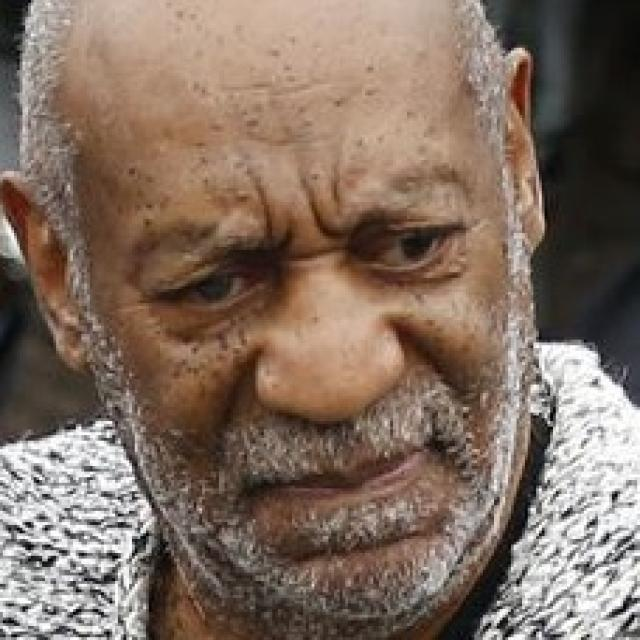Depress: (58, 2, 528, 624)
